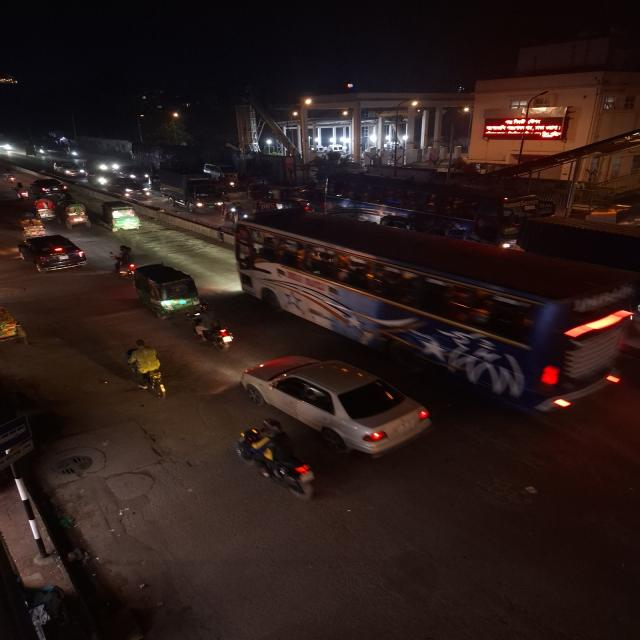bicycle: (122, 337, 173, 401)
bus: (230, 210, 640, 412)
car: (236, 352, 435, 458), (15, 232, 89, 274), (110, 177, 150, 199), (31, 178, 65, 197)
cng: (132, 262, 202, 318), (99, 200, 144, 234), (60, 201, 90, 229)
motorcycle: (232, 419, 322, 502), (190, 310, 238, 354), (111, 245, 139, 278), (15, 183, 30, 201), (6, 174, 18, 184)
pedestrian: (121, 337, 173, 401)
rickshaw: (0, 295, 33, 350), (16, 215, 48, 238), (33, 198, 58, 221)
truck: (152, 168, 224, 212)
